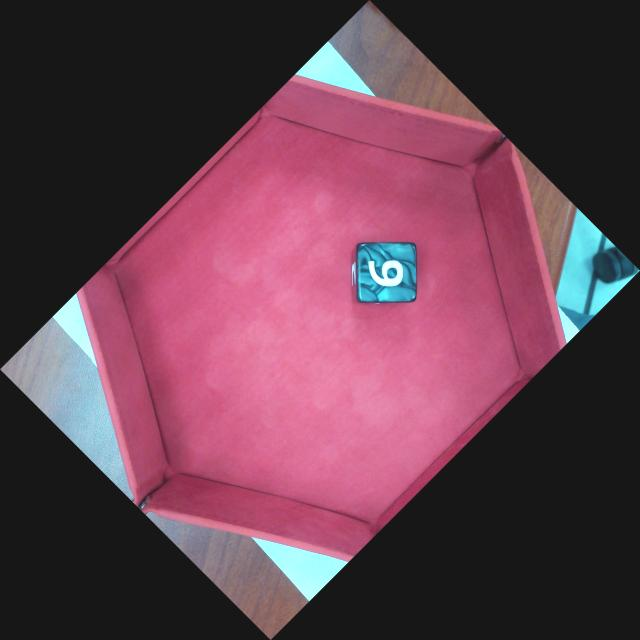dice: (355, 241, 419, 304)
